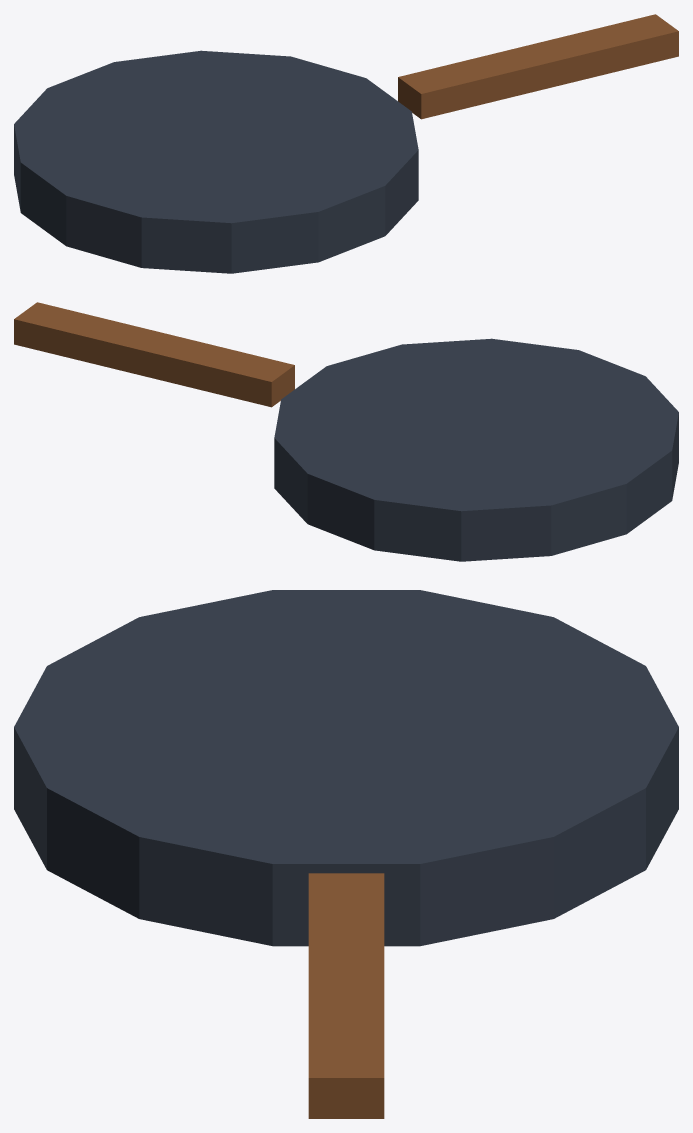
File: Kitchen_Pan.fbx
3 renders of one model, top to bottom at view 1: azimuth 30°, elevation 25°; view 2: azimuth 150°, elevation 25°; view 3: azimuth 270°, elevation 25°, orthographic. The views are drawn at different scales.
Parts seen in each view (by area): view 1: Pan; view 2: Pan; view 3: Pan.
Boxes of the visible parts, x1=… form: Pan: x1=14, y1=14, x2=678, y2=273; Pan: x1=14, y1=302, x2=678, y2=561; Pan: x1=14, y1=590, x2=678, y2=1118.
Bounding box in the file's own units: 0.7745 × 0.065 × 0.44.
